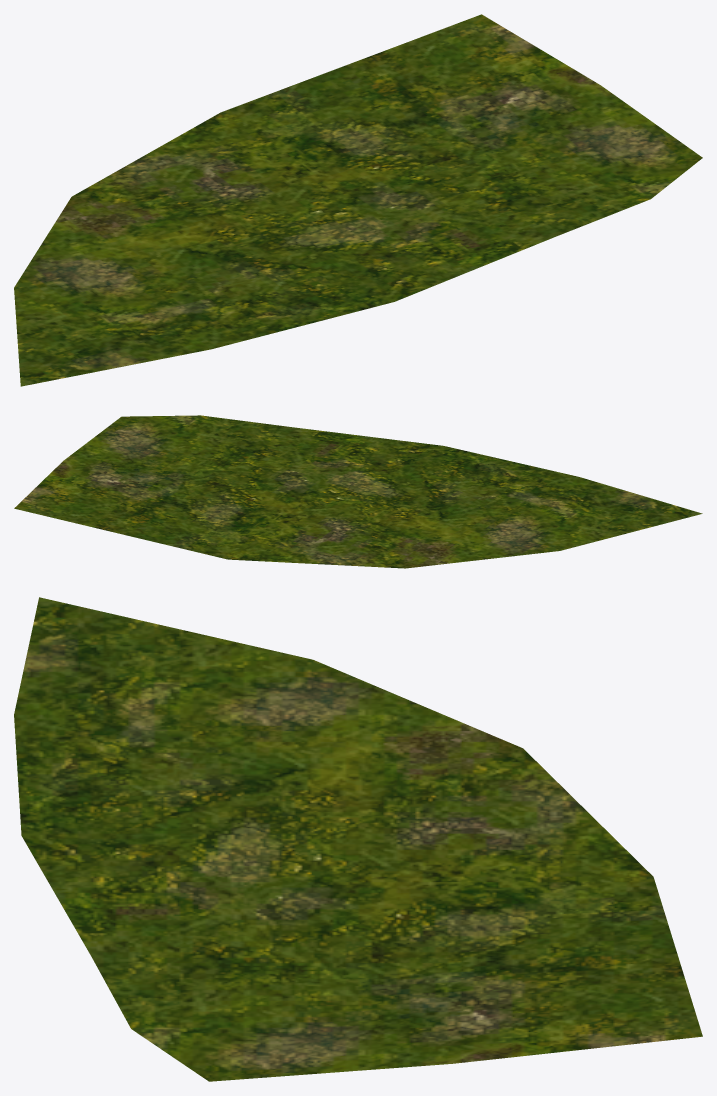
Rendered from OVERHILL_A_01_LINE167.fbx.
3 renders of one model, top to bottom at view 1: azimuth 30°, elevation 25°; view 2: azimuth 150°, elevation 25°; view 3: azimuth 270°, elevation 25°, orthographic. The views are drawn at different scales.
Visible parts, largest first — view 1: OVERHILL_A_01_LINE167; view 2: OVERHILL_A_01_LINE167; view 3: OVERHILL_A_01_LINE167.
Boxes of the visible parts, x1,y1,x2,y2 form: OVERHILL_A_01_LINE167: (14, 14, 702, 386); OVERHILL_A_01_LINE167: (14, 415, 702, 568); OVERHILL_A_01_LINE167: (14, 597, 702, 1081).
Size of the model in its own units: 28069 by 590 by 16870.
1 material, 1 textured.
